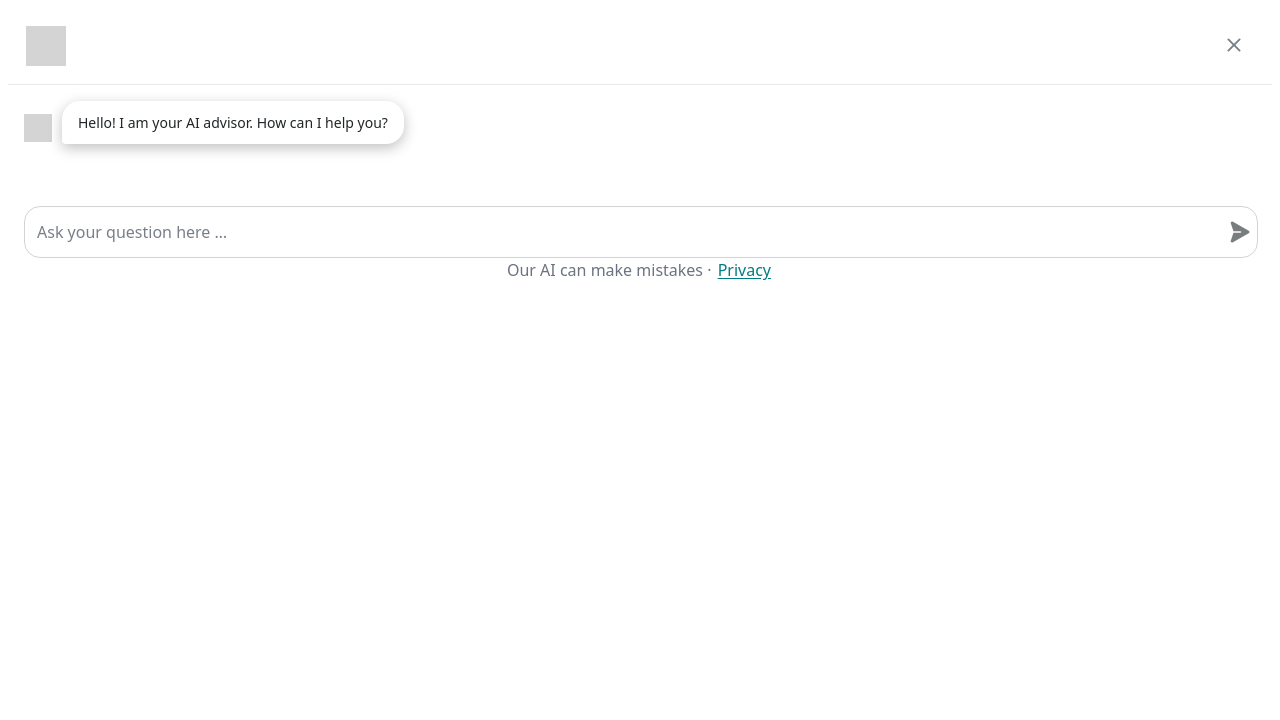
AK-3, AK-5: Datenschutz-Fenster über dem ganzen Chat › englisch: Überschrift, KI-Punkt, Schließen und Symbol
What coordinates should you click on to do the following:
click the button with id "anything-llm-privacy-link"
I would click on:
 (744, 270)
Its box is [716,258,773,282].
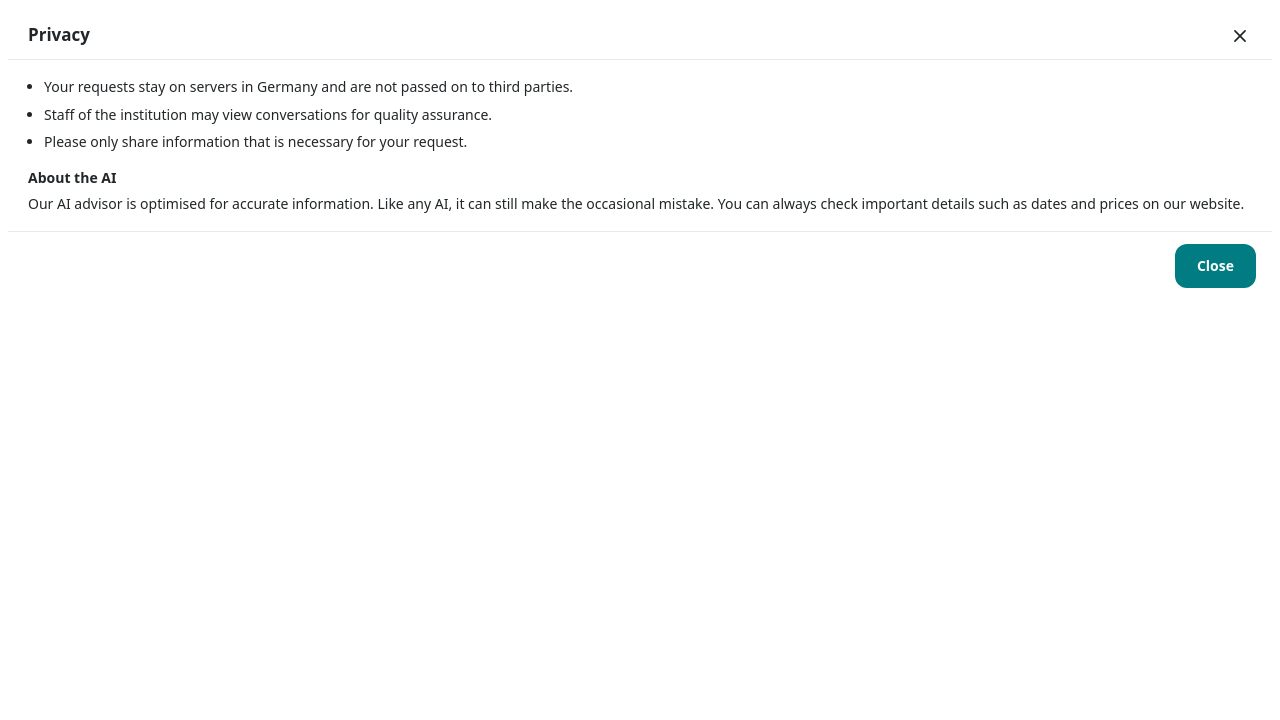
Now the heading "Privacy" is shown, box [28,23,90,46]
Now the dialog shows "About the AI", box [28,168,116,187]
Now the dialog shows "Our AI advisor is optimised for accurate information. Like any AI, it can still make the occasional mistake. You can always check important details such as date", box [28,194,1244,213]
